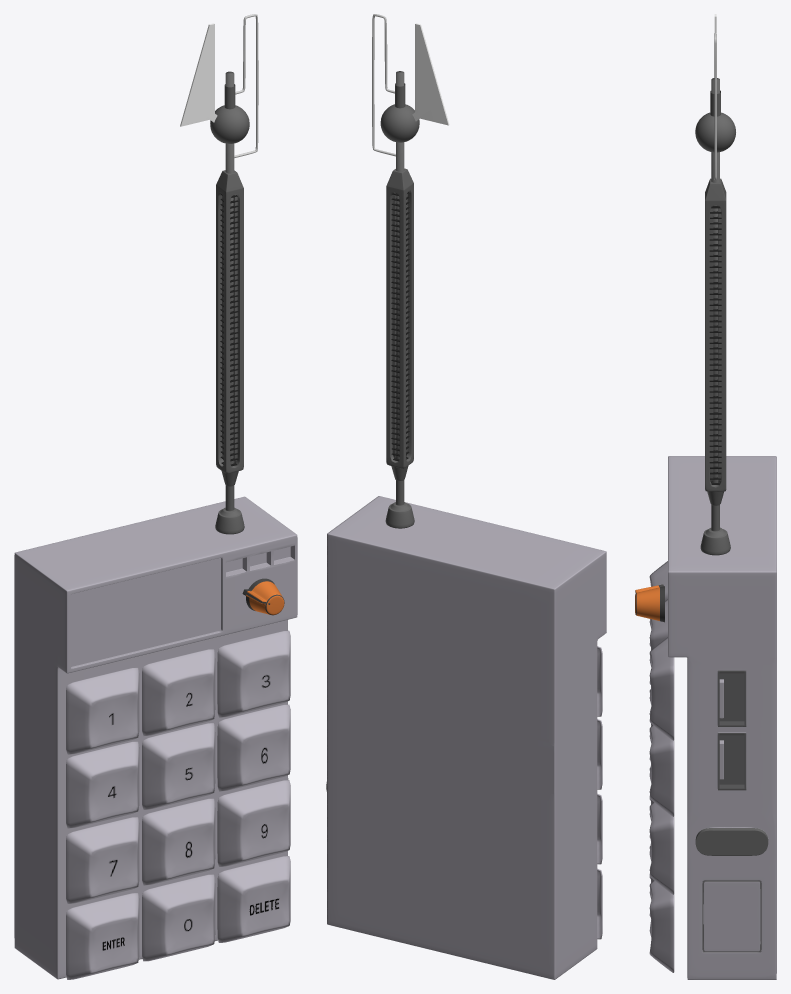
File: hacking-device.glb
The picture shows the model from 3 angles, left to right: view 1: azimuth 30°, elevation 25°; view 2: azimuth 150°, elevation 25°; view 3: azimuth 270°, elevation 25°; orthographic projection. The views are drawn at different scales.
Parts seen in each view (by area): view 1: Cube, screen, Cube.043, key6, key 1, key4, key9, key 0, left key, right key, key3, key2 (+9 smaller); view 2: Cube, Cube.043, Cube.045, Cylinder.001, Cube.044, Sphere, Plane; view 3: Cube, Cube.043, Cylinder.001, key3, right key, key9, key6, Cube.044, Sphere, poto meteer, key2, Plane (+1 smaller).
Part boxes in pixels (<box>): Cube: <box>14,496,297,979</box>; screen: <box>71,558,220,666</box>; Cube.043: <box>216,170,243,486</box>; key6: <box>217,704,290,791</box>; key 1: <box>66,667,139,754</box>; key4: <box>66,741,139,828</box>; key9: <box>217,780,290,866</box>; key 0: <box>142,874,215,961</box>; left key: <box>66,893,139,979</box>; right key: <box>217,856,290,942</box>; key3: <box>217,630,290,717</box>; key2: <box>142,649,215,736</box>; Cube: <box>326,496,606,979</box>; Cube.043: <box>386,168,413,480</box>; Cube.045: <box>412,23,449,125</box>; Cylinder.001: <box>385,71,414,528</box>; Cube.044: <box>391,192,409,461</box>; Sphere: <box>380,104,419,142</box>; Plane: <box>372,14,395,156</box>; Cube: <box>668,456,776,979</box>; Cube.043: <box>705,178,726,505</box>; Cylinder.001: <box>700,78,730,555</box>; key3: <box>649,637,674,740</box>; right key: <box>649,880,674,972</box>; key9: <box>649,802,674,894</box>; key6: <box>649,725,674,816</box>; Cube.044: <box>709,206,721,484</box>; Sphere: <box>695,112,735,152</box>; poto meteer: <box>635,584,664,622</box>; key2: <box>649,599,667,684</box>; Plane: <box>714,33,716,180</box>.
Bounding box in the file's own units: 8.24 × 30.27 × 4.17.
22 materials, 12 textured.
